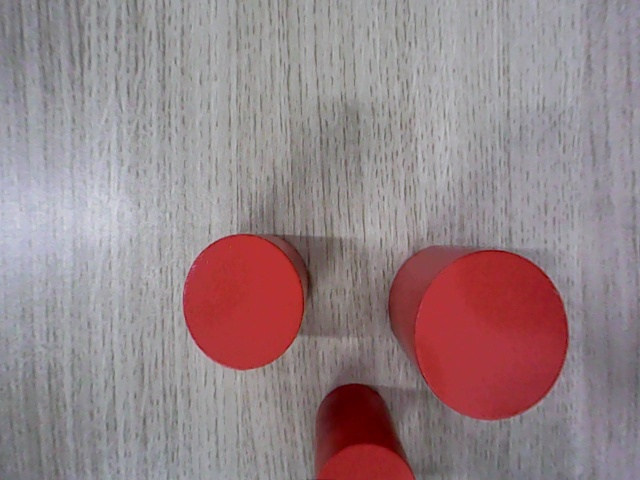upside of cylinder: (413, 249, 569, 420), (182, 232, 305, 372), (317, 444, 414, 479)
